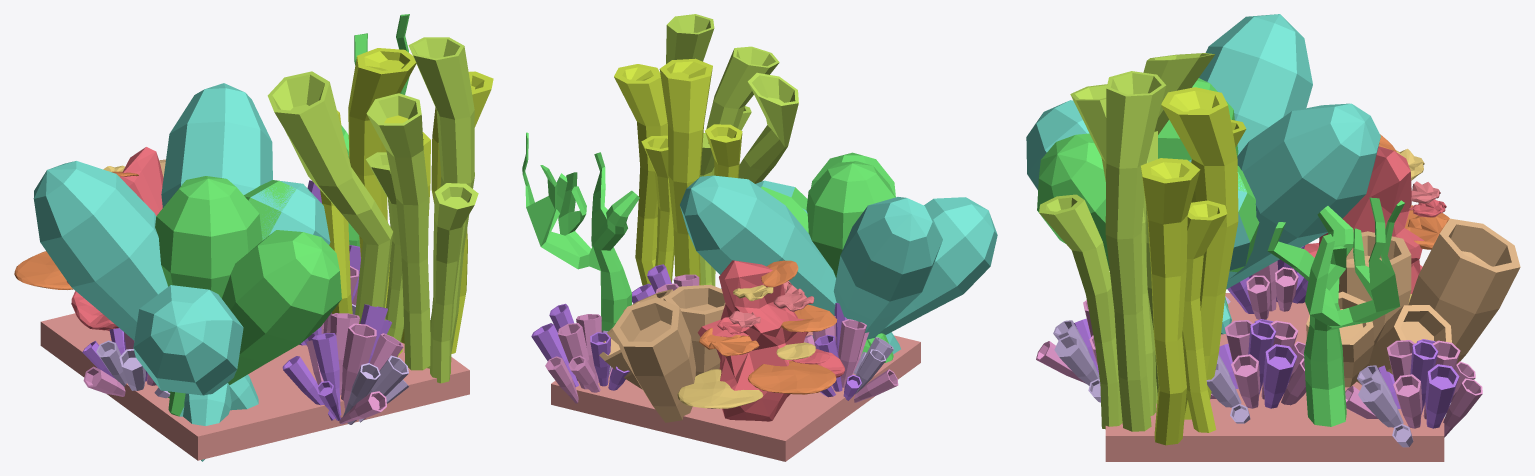
The model's file is reef1.fbx.
3 renders of one model, left to right at view 1: azimuth 30°, elevation 25°; view 2: azimuth 150°, elevation 25°; view 3: azimuth 270°, elevation 25°, orthographic. The views are drawn at different scales.
Parts seen in each view (by area): view 1: reef_block_2; view 2: reef_block_2; view 3: reef_block_2.
Part boxes in pixels (left/top/right/bottom): reef_block_2: left=14, top=14, right=493, bottom=461; reef_block_2: left=522, top=14, right=997, bottom=461; reef_block_2: left=1026, top=14, right=1520, bottom=461.
Size of the model in its own units: 17.42 by 13.76 by 16.38.
